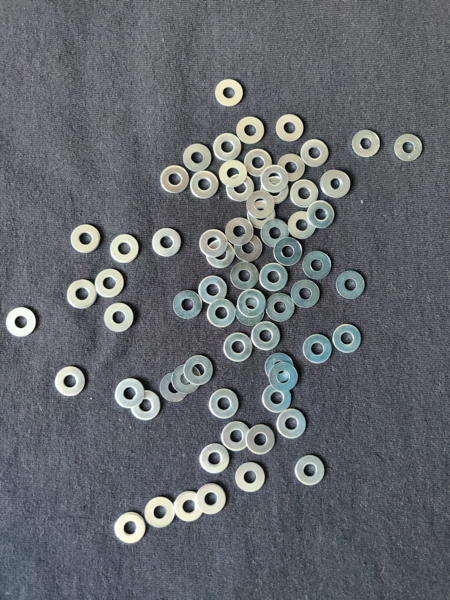circle: (113, 511, 149, 544), (295, 453, 328, 488), (392, 132, 424, 167), (65, 277, 97, 311), (278, 406, 309, 441), (104, 301, 137, 333), (5, 305, 37, 338), (144, 495, 176, 528), (109, 231, 139, 266), (236, 461, 267, 494), (114, 376, 144, 410), (321, 168, 352, 200), (265, 293, 297, 324), (304, 334, 335, 366), (197, 275, 229, 306), (200, 444, 231, 476), (172, 288, 203, 320), (54, 365, 85, 397), (174, 492, 205, 524), (353, 128, 383, 161), (335, 271, 368, 301), (263, 382, 293, 415), (291, 279, 322, 310), (206, 298, 237, 329), (221, 421, 252, 452), (130, 390, 161, 421), (195, 484, 226, 515), (229, 261, 261, 291), (209, 388, 239, 420), (184, 355, 214, 387), (289, 179, 320, 209), (302, 251, 333, 281), (333, 324, 363, 355), (95, 268, 125, 299), (287, 212, 319, 241), (224, 332, 253, 364), (247, 424, 276, 456), (308, 202, 338, 232), (158, 373, 188, 403), (70, 224, 100, 254), (235, 298, 266, 327), (152, 226, 181, 257), (320, 170, 353, 197), (301, 139, 330, 169), (276, 113, 305, 143), (260, 165, 290, 194), (199, 229, 228, 259), (260, 263, 289, 293), (252, 322, 282, 351), (189, 170, 218, 199), (207, 240, 236, 269), (172, 366, 201, 395), (277, 154, 307, 182), (246, 191, 276, 219), (237, 115, 265, 145), (183, 143, 211, 173), (161, 164, 189, 194), (234, 234, 264, 262), (265, 353, 295, 381), (259, 178, 290, 205), (227, 172, 254, 203), (274, 239, 303, 267), (247, 201, 276, 229), (216, 78, 244, 107), (224, 218, 253, 246), (263, 219, 290, 249), (239, 290, 267, 318), (270, 363, 298, 391), (214, 133, 241, 162), (220, 159, 247, 188), (244, 150, 272, 177)
